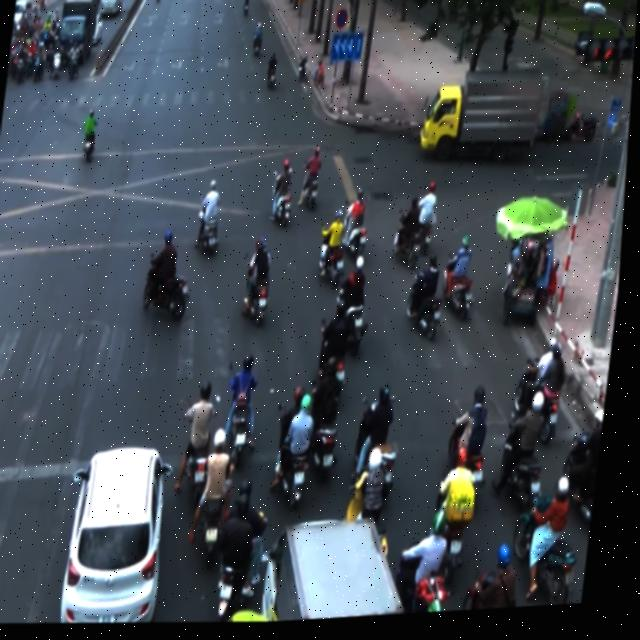Red: (586, 43, 636, 80)
